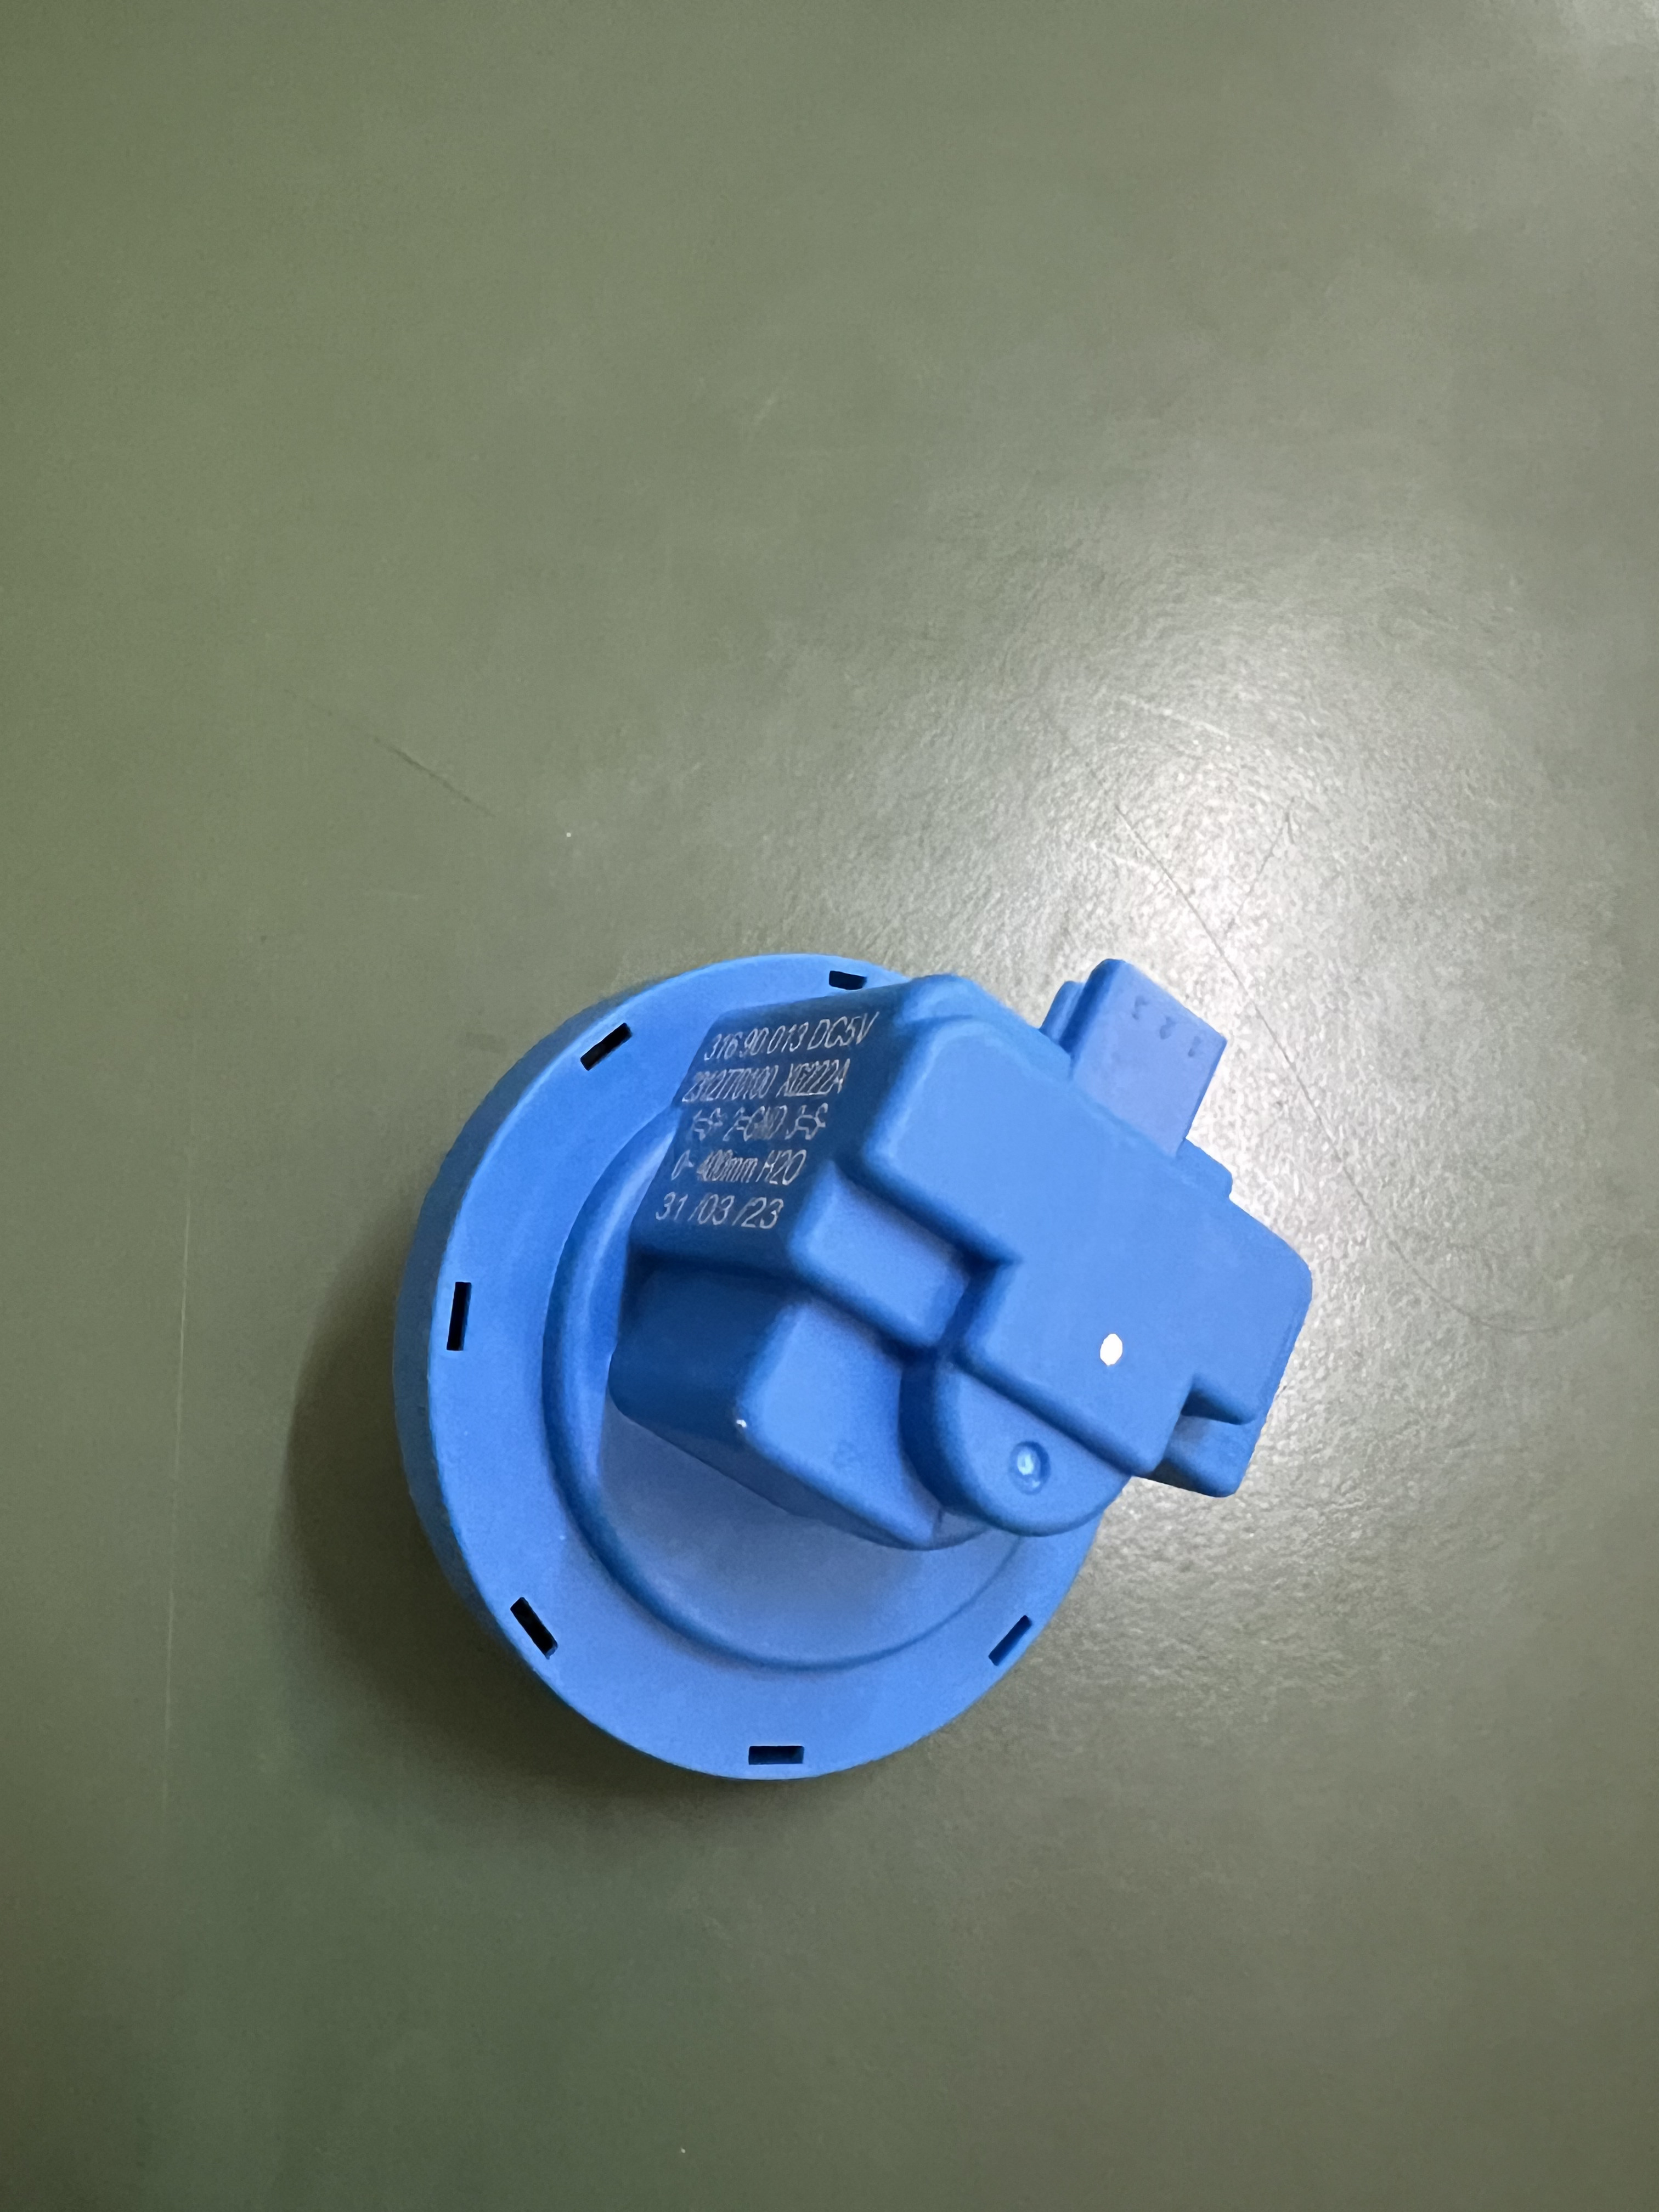voltas_beko_pressure_switch: (359, 906, 1331, 1797)
